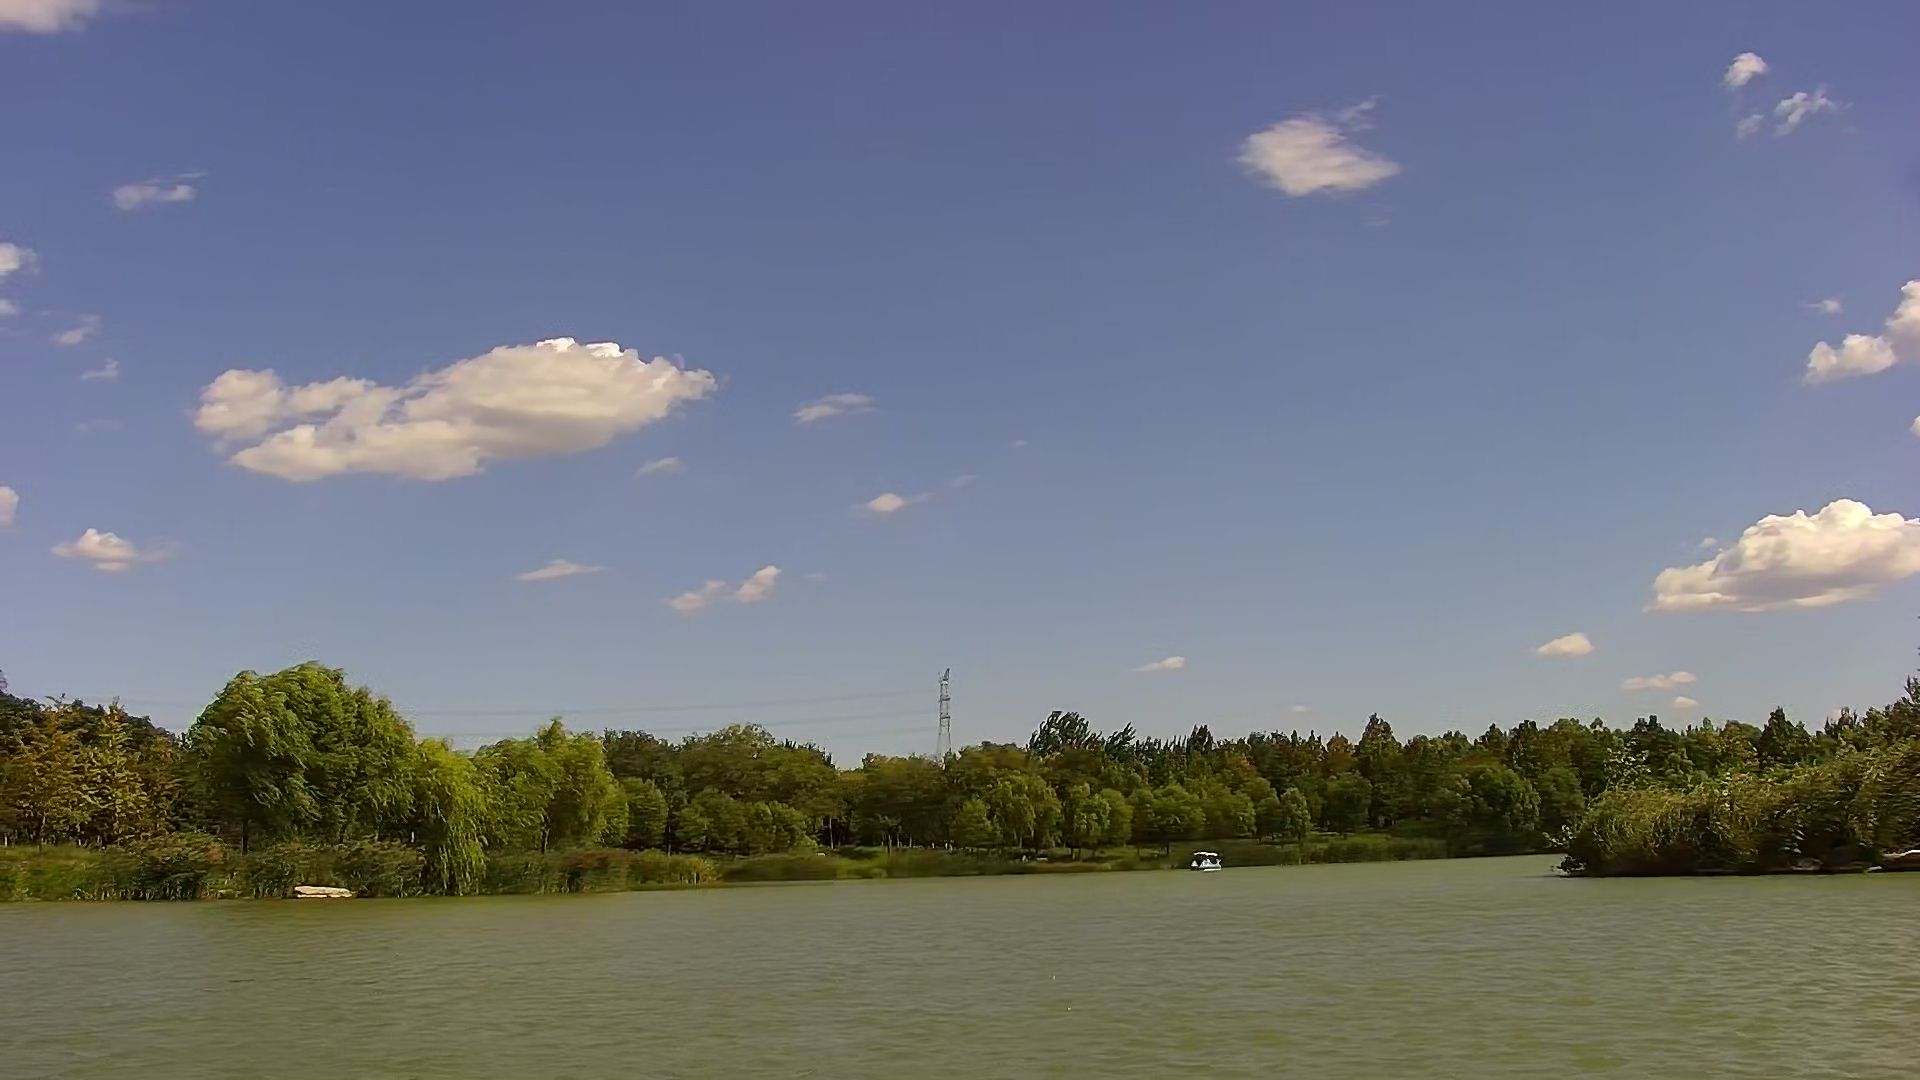boat: (1188, 848, 1228, 874)
